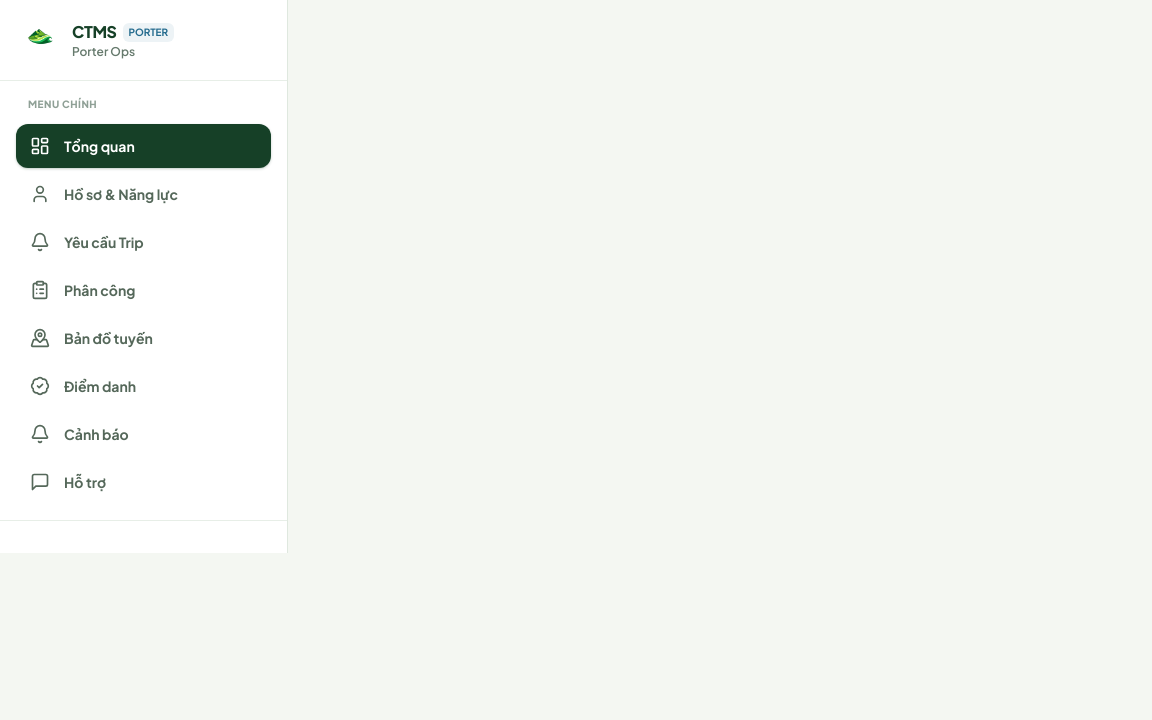
it: Porter assignment navigation › opens the real assignment route when the sidebar item is clicked
Click the button "Phân công" at x=144, y=290, box 16,268 -> 271,312
(page scrolled)
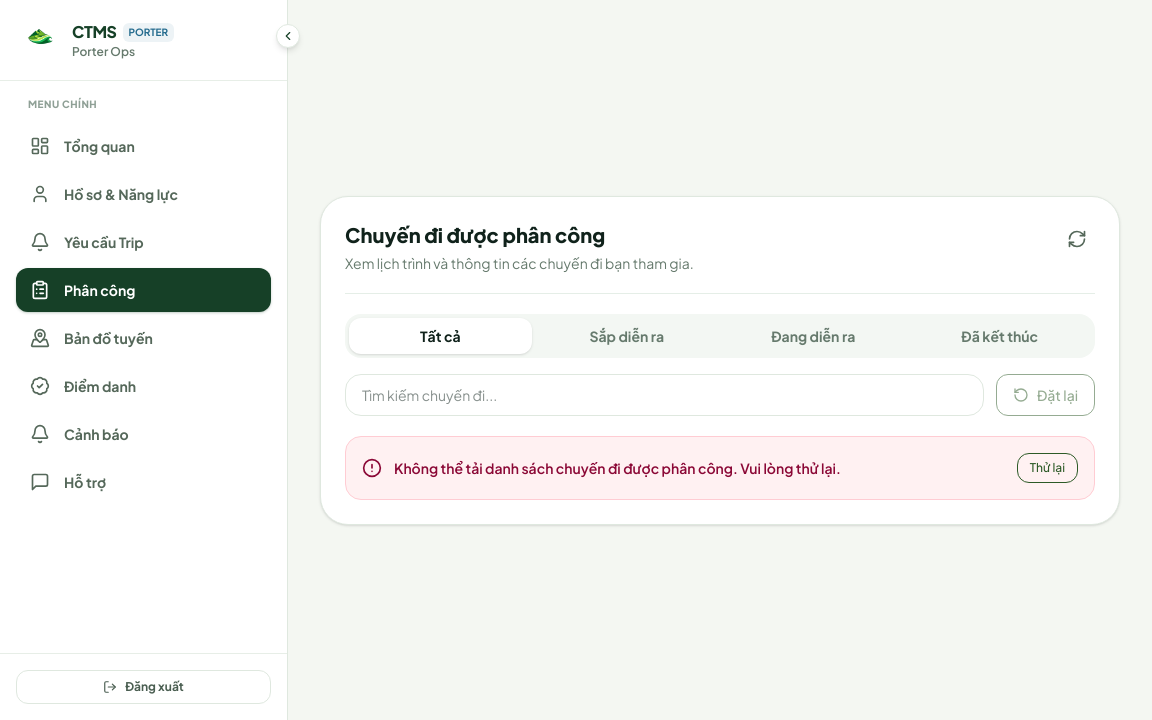
Result: the element "Chuyến đi được phân công" is shown at 320,196 -> 1120,525
